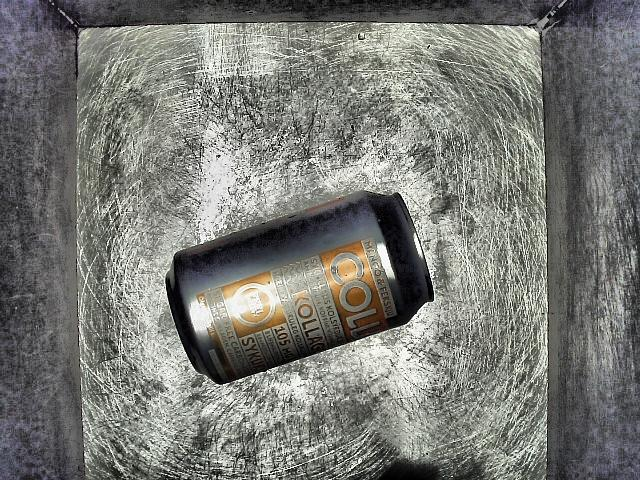Bottles: (156, 177, 442, 401)
